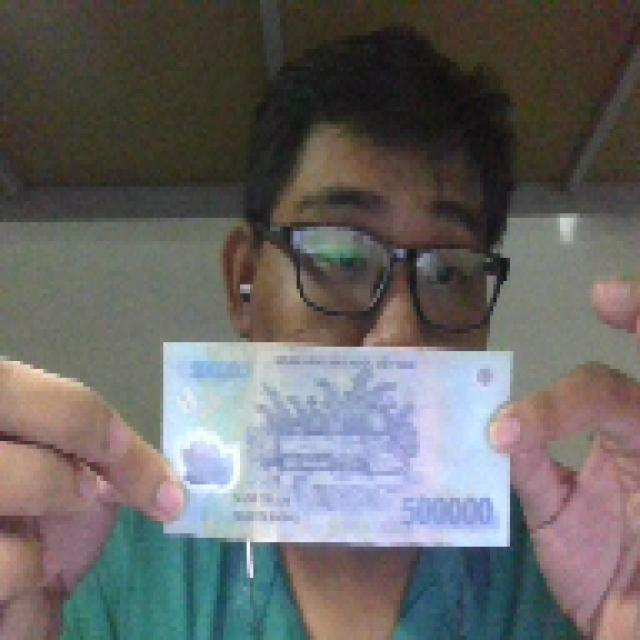500 000 VND: (156, 333, 516, 551)
